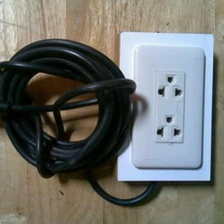three_eye_plug: (131, 43, 206, 169)
